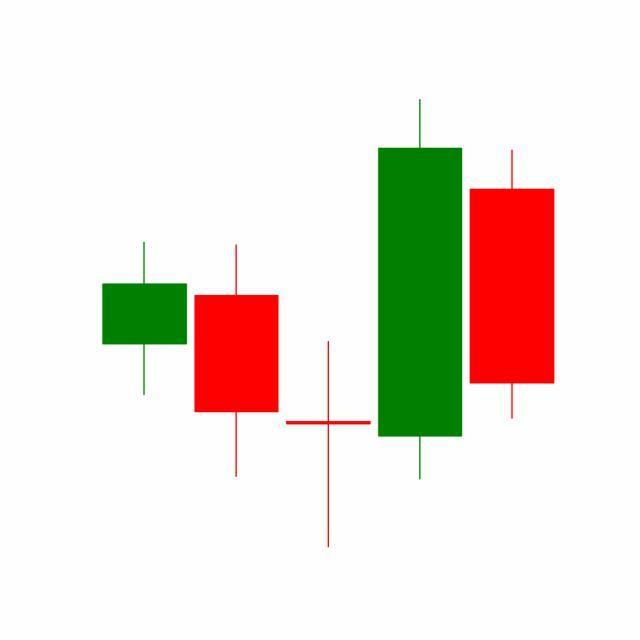Morning Star: (190, 99, 467, 549)
